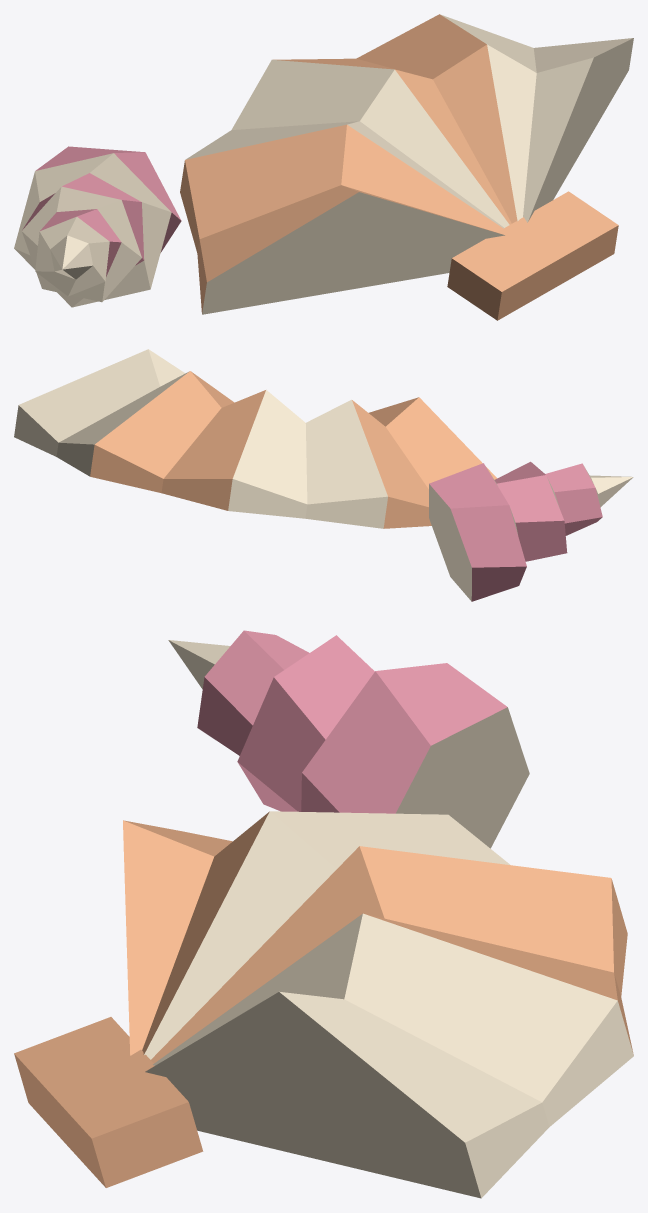
File: seashell.glb
The picture shows the model from 3 angles, top to bottom: view 1: azimuth 30°, elevation 25°; view 2: azimuth 150°, elevation 25°; view 3: azimuth 270°, elevation 25°; orthographic projection. The views are drawn at different scales.
Parts seen in each view (by area): view 1: seashell; view 2: seashell; view 3: seashell.
Boxes of the visible parts, x1=… form: seashell: x1=14, y1=14, x2=633, y2=320; seashell: x1=14, y1=349, x2=633, y2=601; seashell: x1=14, y1=630, x2=633, y2=1198.
Size of the model in its own units: 0.3357 by 0.0826 by 0.1762.
